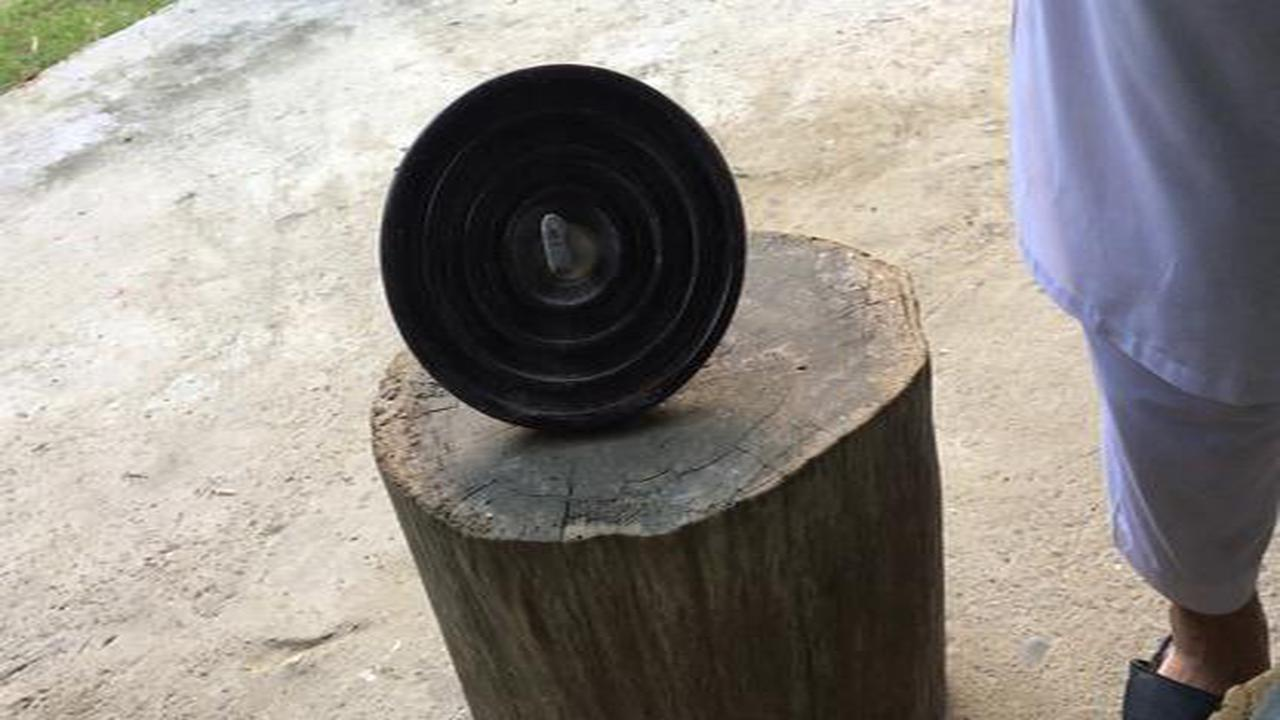insulator_disc: (376, 61, 756, 439)
